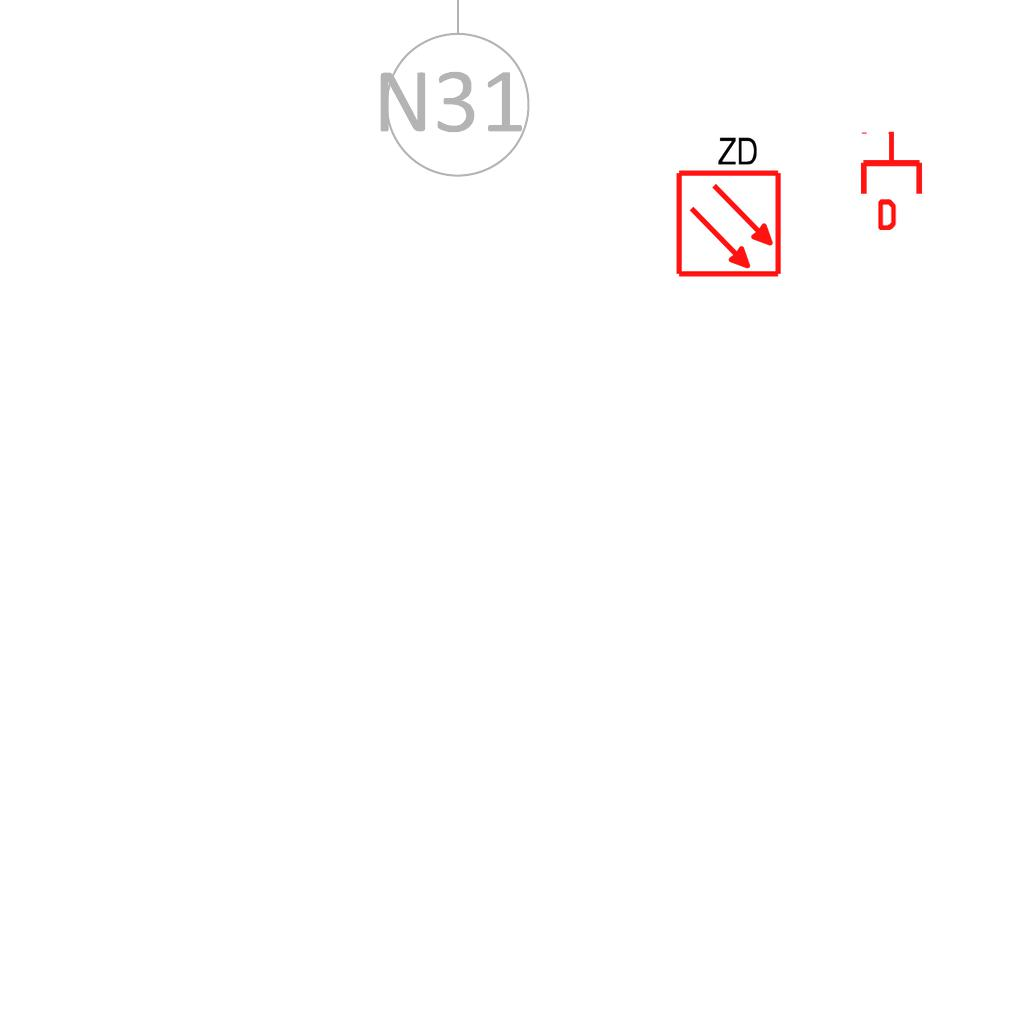Datenanschluss_einfach: (857, 130, 926, 230)
ZD_Melder_in_Zwischendecke_mit_Revisionsoeffnung_mind_40_x_40_cm: (670, 130, 784, 279)
